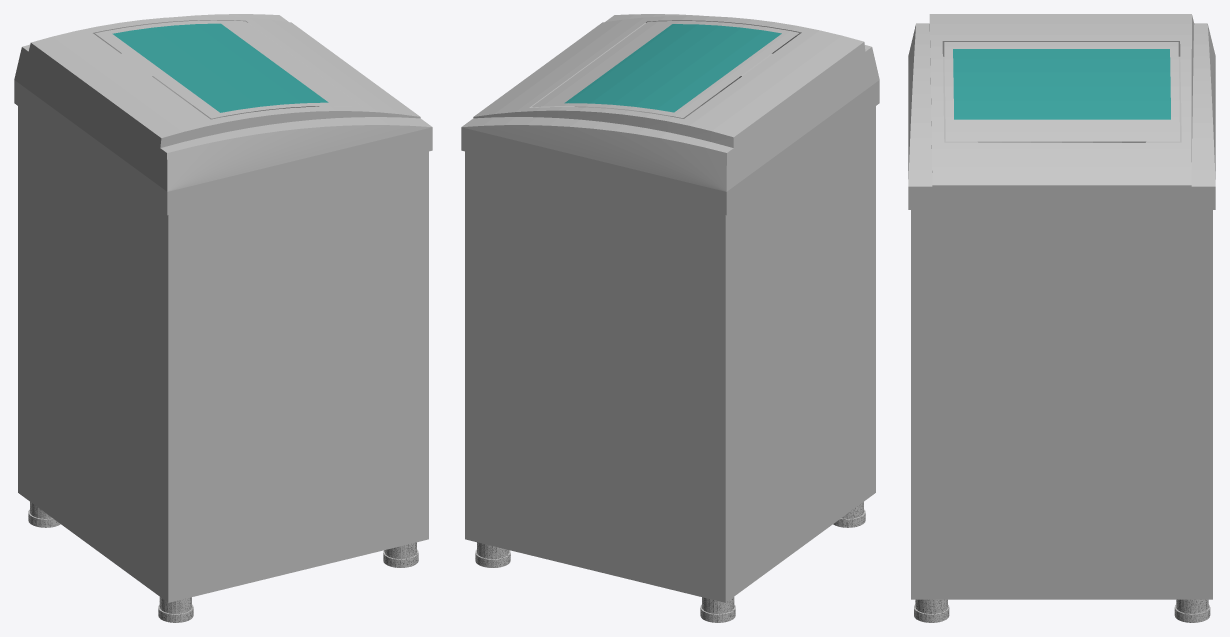
3 renders of one model, left to right at view 1: azimuth 30°, elevation 25°; view 2: azimuth 150°, elevation 25°; view 3: azimuth 270°, elevation 25°, orthographic.
Visible parts, largest first — view 1: mesh1.001_mesh1-geometry, mesh8.001_mesh8-geometry, mesh6.001_mesh6-geometry, mesh18.006_mesh18-geometry, mesh18.005_mesh18-geometry; view 2: mesh1.001_mesh1-geometry, mesh8.001_mesh8-geometry, mesh6.001_mesh6-geometry, mesh18.007_mesh18-geometry, mesh18.008_mesh18-geometry; view 3: mesh1.001_mesh1-geometry, mesh8.001_mesh8-geometry, mesh6.001_mesh6-geometry, mesh18.008_mesh18-geometry, mesh18.005_mesh18-geometry.
Part boxes in pixels (x1,y1,x2,y2): mesh1.001_mesh1-geometry: (18, 91, 428, 602); mesh8.001_mesh8-geometry: (14, 14, 432, 215); mesh6.001_mesh6-geometry: (95, 20, 361, 118); mesh18.006_mesh18-geometry: (158, 597, 193, 622); mesh18.005_mesh18-geometry: (383, 542, 418, 567); mesh1.001_mesh1-geometry: (465, 91, 875, 602); mesh8.001_mesh8-geometry: (461, 14, 879, 215); mesh6.001_mesh6-geometry: (531, 21, 799, 117); mesh18.007_mesh18-geometry: (700, 597, 735, 622); mesh18.008_mesh18-geometry: (475, 542, 510, 567); mesh1.001_mesh1-geometry: (911, 141, 1212, 599); mesh8.001_mesh8-geometry: (908, 14, 1215, 209); mesh6.001_mesh6-geometry: (944, 42, 1179, 141); mesh18.008_mesh18-geometry: (1174, 599, 1210, 622); mesh18.005_mesh18-geometry: (914, 599, 949, 622).
Bounding box in the file's own units: 0.4463 × 0.7756 × 0.4463.
